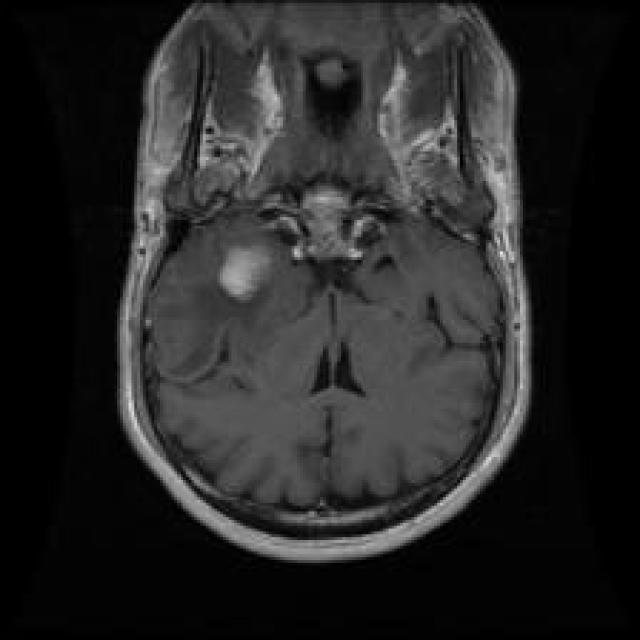meningioma_tumor: (210, 226, 300, 312)
